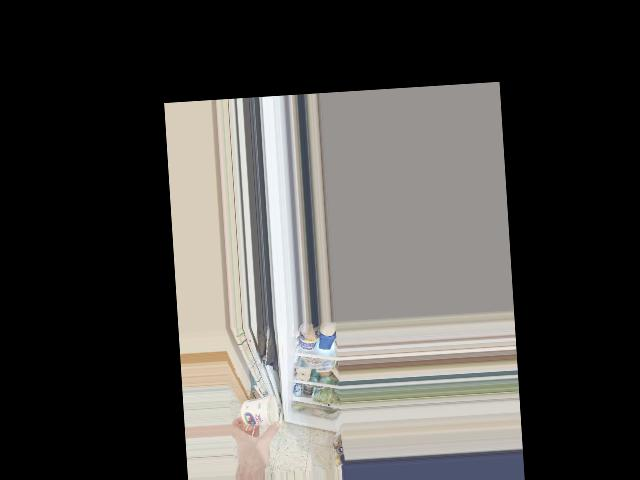cotage: (242, 398, 276, 430)
